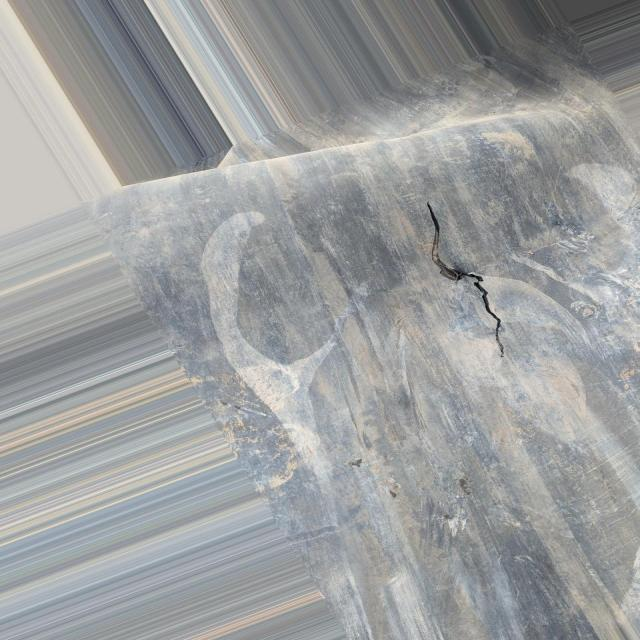Tear: (425, 207, 511, 352)
